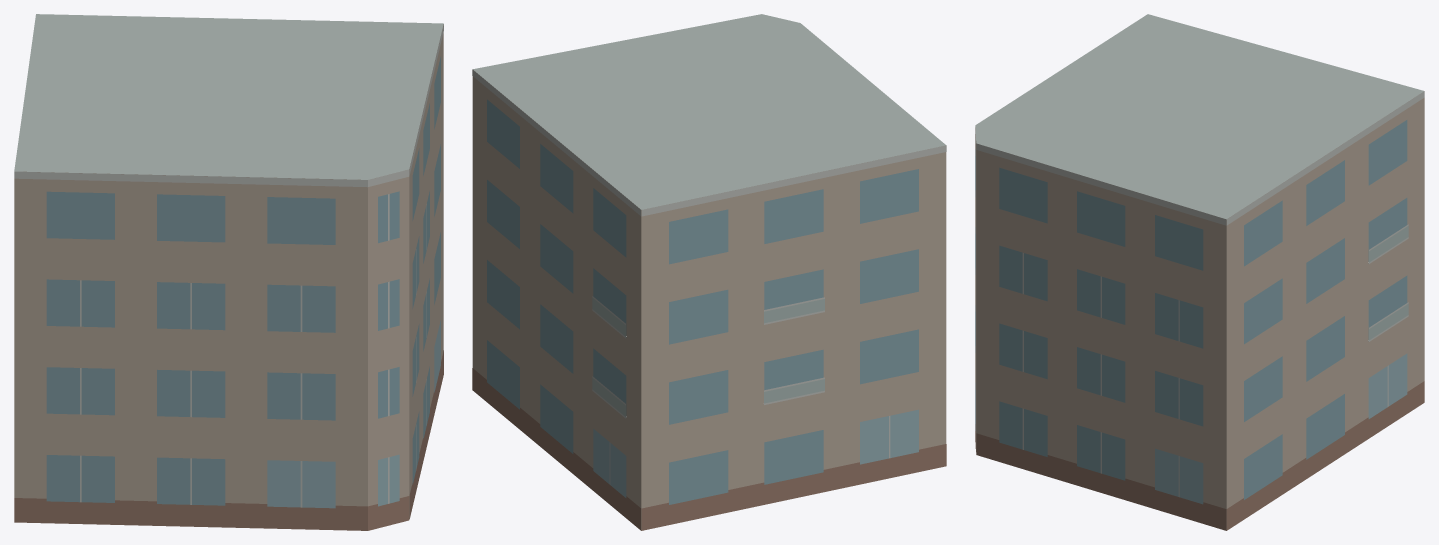
Rendered from survey-upis-33008397.glb.
3 views of the same model, side by side, from view 1: azimuth 30°, elevation 25°; view 2: azimuth 150°, elevation 25°; view 3: azimuth 270°, elevation 25° (orthographic). The views are drawn at different scales.
Visible parts, largest first — view 1: survey-upis-33008397.tmp; view 2: survey-upis-33008397.tmp; view 3: survey-upis-33008397.tmp.
Boxes of the visible parts, left/top/right/bottom form: survey-upis-33008397.tmp: left=14, top=14, right=443, bottom=530; survey-upis-33008397.tmp: left=472, top=14, right=946, bottom=530; survey-upis-33008397.tmp: left=975, top=14, right=1424, bottom=530.
Bounding box in the file's own units: 16.76 × 11.85 × 15.5.
